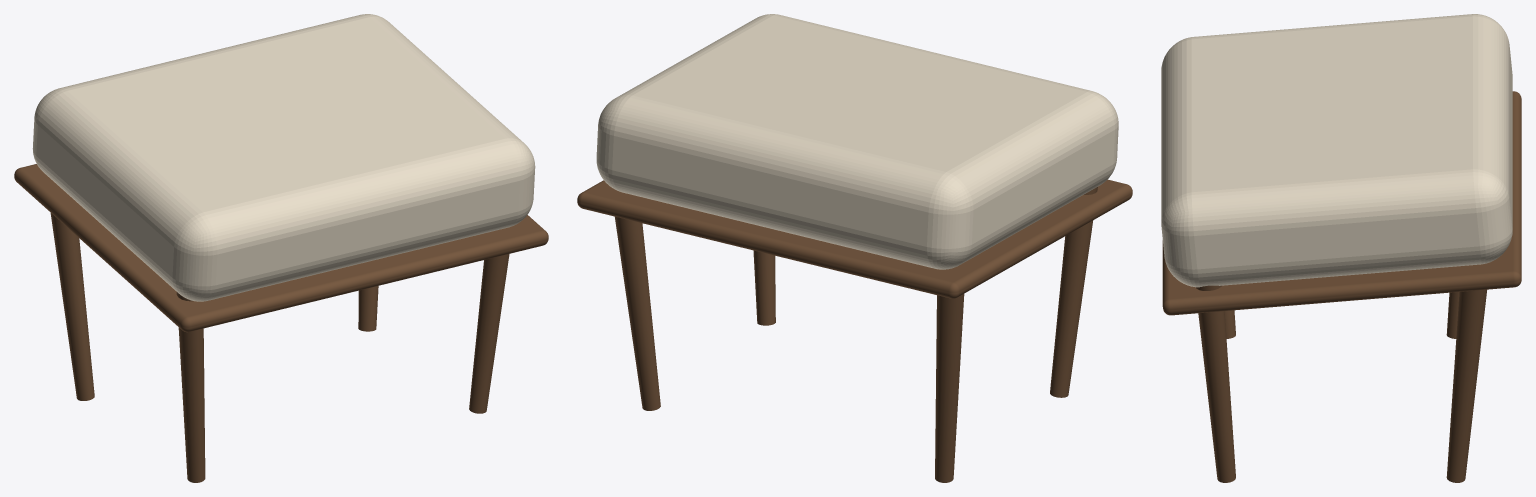
The model's file is atelier-ottoman-timber-ivory.glb.
3 renders of one model, left to right at view 1: azimuth 30°, elevation 25°; view 2: azimuth 150°, elevation 25°; view 3: azimuth 270°, elevation 25°, orthographic. The views are drawn at different scales.
Size of the model in its own units: 0.5612 by 0.4442 by 0.4603.
